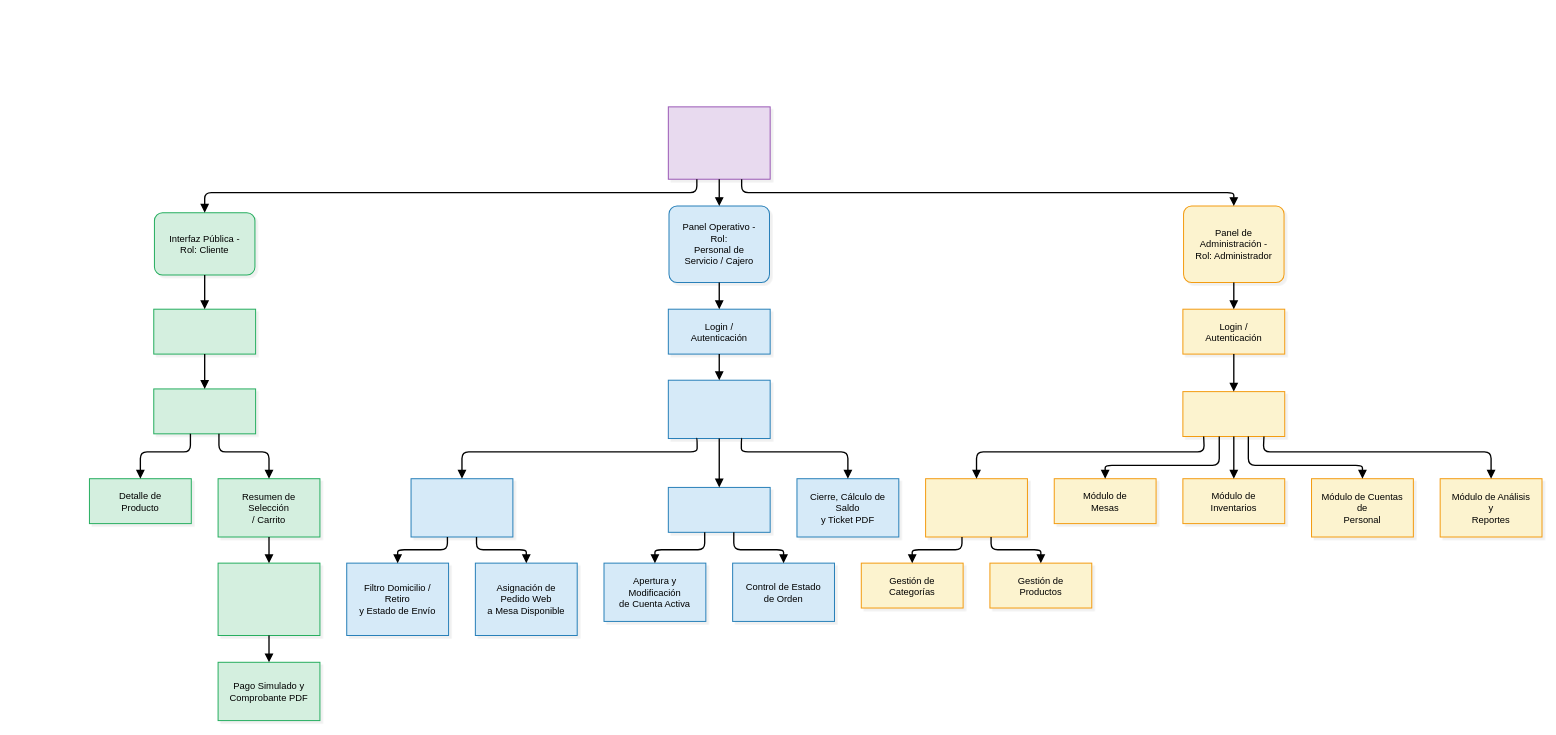
This 1556x735 diagram has some shape labels left out. The shapes that lost their labels are listed below. From the top down, each one's centre as x and y in pixels, then its label:
At [720,144]: "Sistema Web para Administración de una Cafetería".
At [205,332]: "Inicio / Página Principal".
At [205,412]: "Menú por Categorías".
At [720,410]: "Dashboard del Empleado / Vista de Mesas".
At [1235,415]: "Dashboard Administrativo".
At [463,509]: "Recepción de Pedidos Web - Cajero".
At [720,511]: "Gestión de Órdenes".
At [977,509]: "Módulo de Catálogo y Menú".
At [270,600]: "Modal de Datos y Modalidad Domicilio / Retiro".
